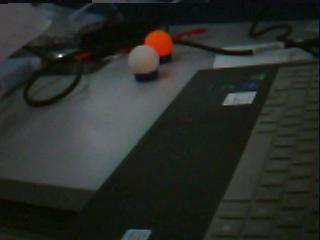oball: (145, 29, 172, 46)
